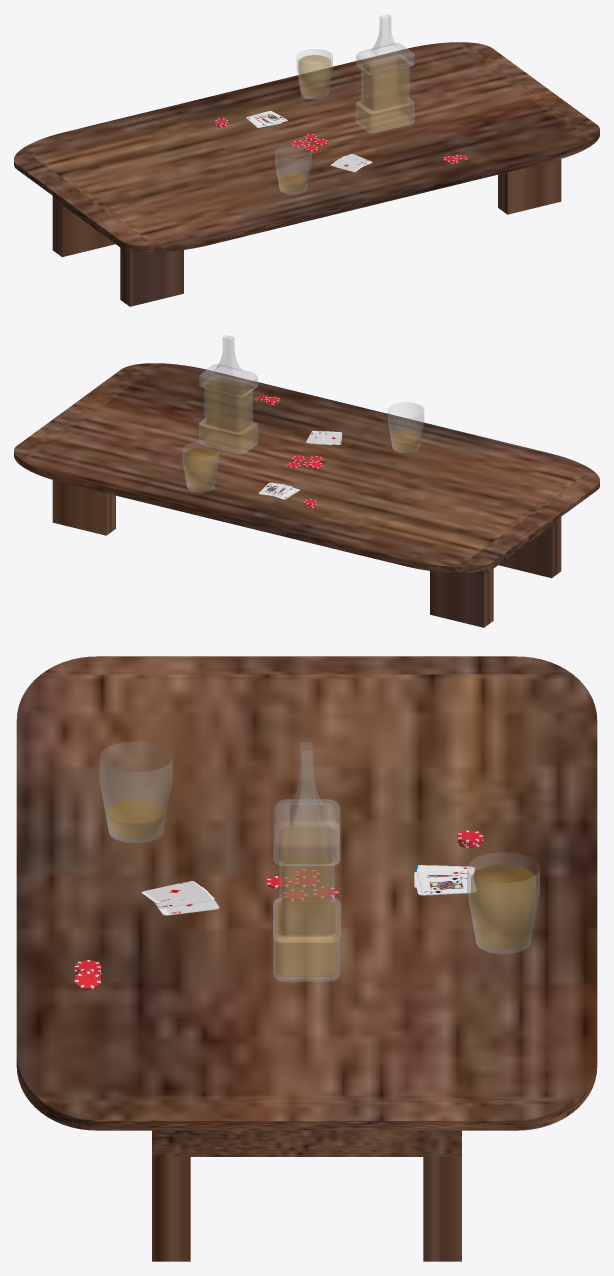
The model's file is TABL.glb.
3 views of the same model, one above another, from view 1: azimuth 30°, elevation 25°; view 2: azimuth 150°, elevation 25°; view 3: azimuth 270°, elevation 25° (orthographic). The views are drawn at different scales.
Visible parts, largest first — view 1: Cube, Cube.002, Cube.001, Cube.003, Circle.001, Circle, Circle.002, Circle.003; view 2: Cube, Cube.002, Cube.001, Cube.003, Circle.001, Circle, Circle.002, Circle.003; view 3: Cube, Cube.002, Cube.001, Cube.003, Circle.001, Circle, Circle.002, Circle.003, Plane, Plane.003.
Part boxes in pixels (<box>): Cube: <box>14,42,599,251</box>; Cube.002: <box>52,159,561,306</box>; Cube.001: <box>356,14,414,133</box>; Cube.003: <box>359,56,411,130</box>; Circle.001: <box>275,144,311,194</box>; Circle: <box>297,49,332,99</box>; Circle.002: <box>299,55,330,96</box>; Circle.003: <box>279,173,307,191</box>; Cube: <box>14,363,599,572</box>; Cube.002: <box>52,480,561,627</box>; Cube.001: <box>199,335,257,454</box>; Cube.003: <box>202,377,254,451</box>; Circle.001: <box>388,402,423,452</box>; Circle: <box>183,442,218,492</box>; Circle.002: <box>185,448,216,489</box>; Circle.003: <box>392,431,419,450</box>; Cube: <box>16,656,597,1130</box>; Cube.002: <box>152,1130,461,1261</box>; Cube.001: <box>273,742,340,981</box>; Cube.003: <box>277,825,336,976</box>; Circle.001: <box>100,742,172,842</box>; Circle: <box>467,852,539,953</box>; Circle.002: <box>471,865,535,948</box>; Circle.003: <box>108,799,164,838</box>; Plane: <box>414,875,476,895</box>; Plane.003: <box>141,881,208,903</box>.
Size of the model in its own units: 7.1 by 2.71 by 3.75.
Materials: 16 (8 with a texture image).
